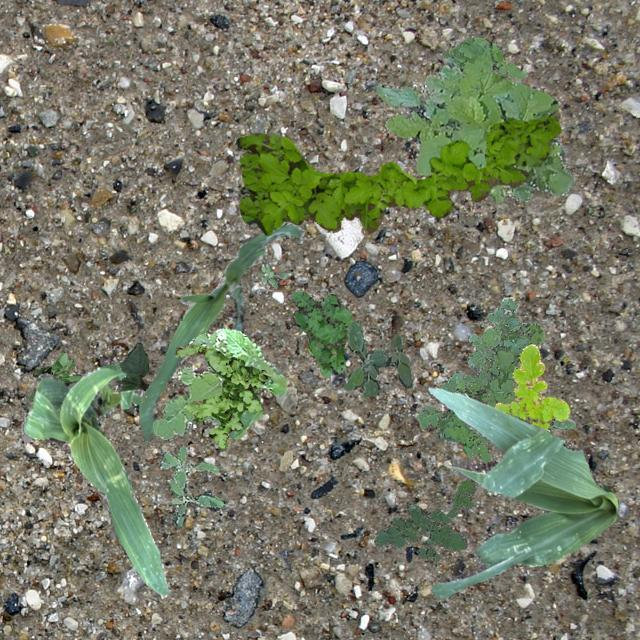crop: (427, 384, 618, 596), (138, 220, 304, 440), (23, 362, 168, 596), (115, 342, 148, 412)
weed: (235, 113, 560, 234), (374, 60, 572, 202), (416, 296, 544, 462), (152, 328, 286, 438), (174, 344, 270, 448), (373, 478, 478, 560), (494, 344, 570, 428), (286, 288, 350, 376), (342, 318, 412, 396), (158, 446, 224, 526), (444, 36, 526, 78), (27, 350, 82, 400), (256, 262, 290, 286), (544, 418, 574, 433)
